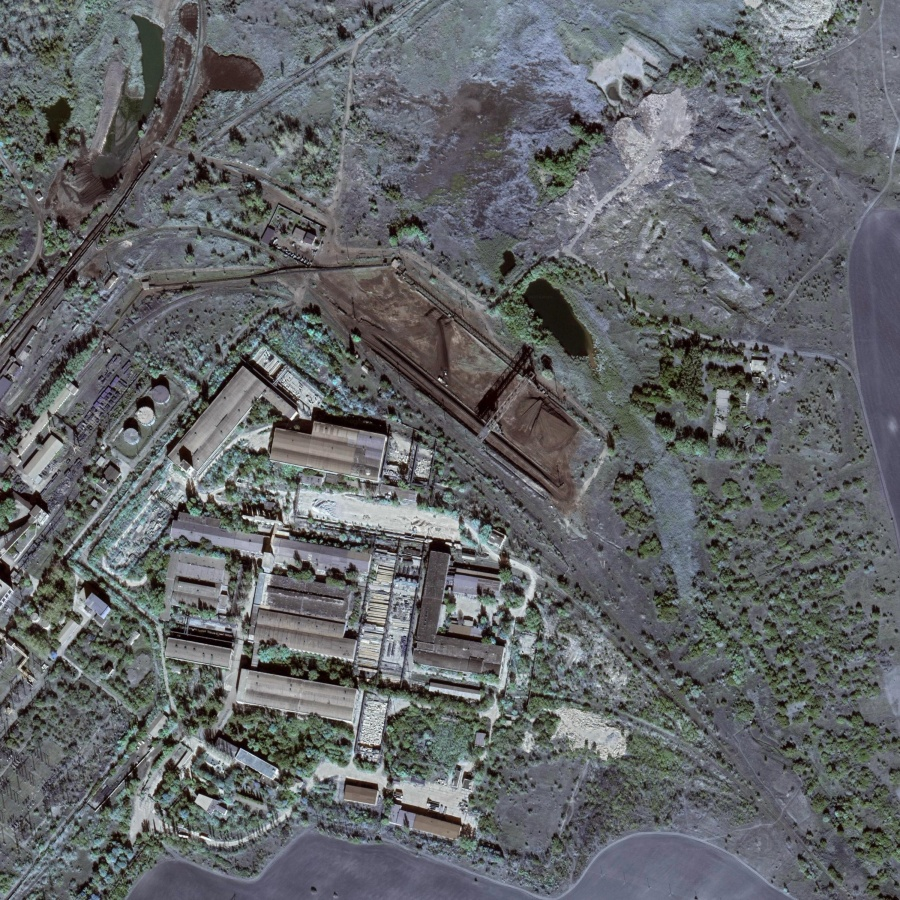PowerPlant: (294, 248, 584, 501)
